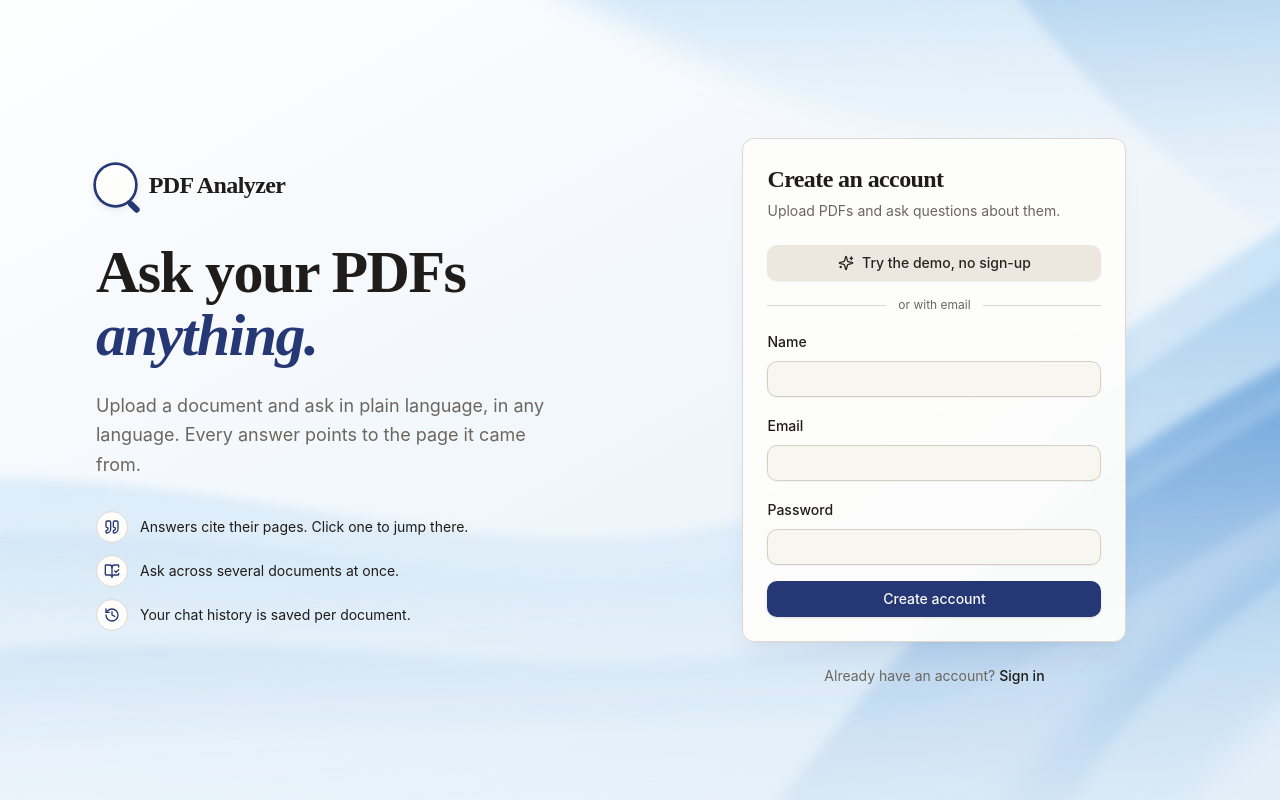
Scenario: RegisterPage (form validation) › shows a clear error under each invalid field, without calling the API
The width and height of the screenshot is (1280, 800).
Type "not-an-email" into the field labelled "Email" at (934, 463), box [768,445,1102,481]
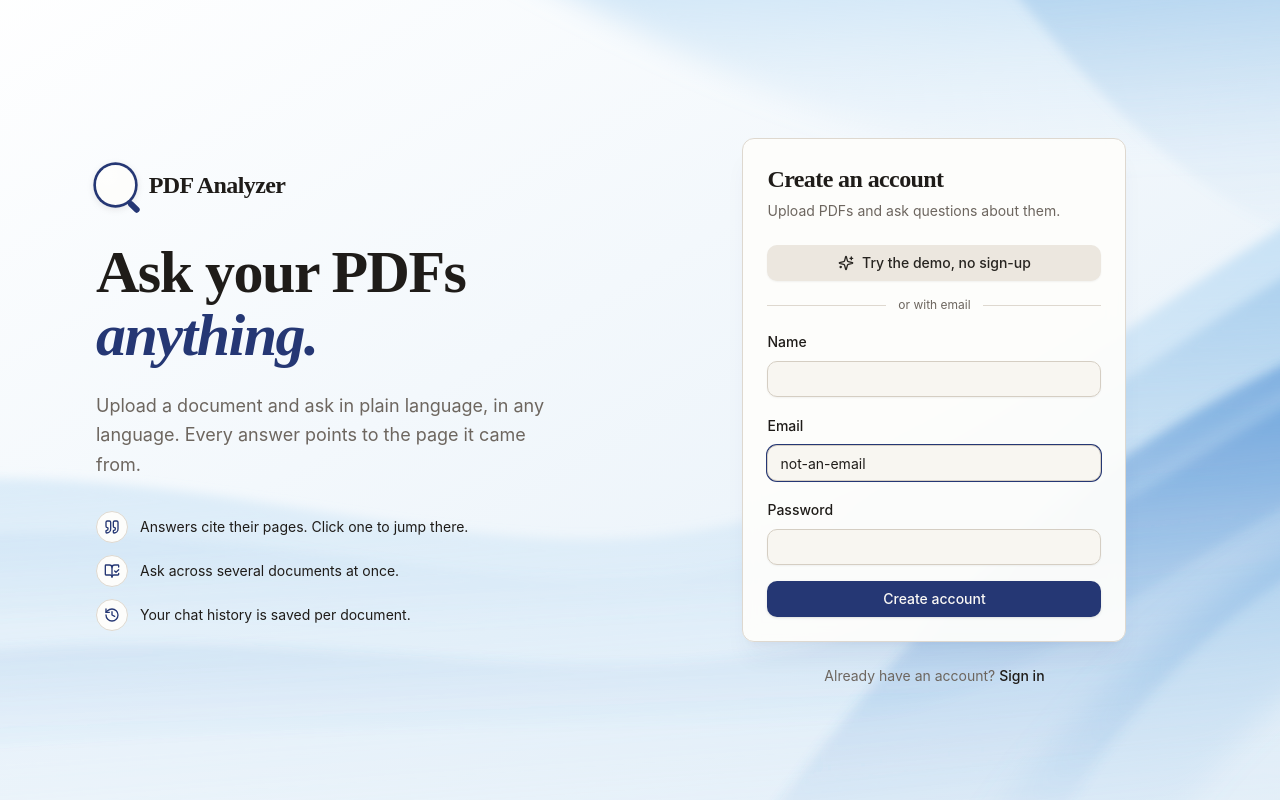
Type "short" into the password field labelled "Password" at (934, 547), box [768,529,1102,565]
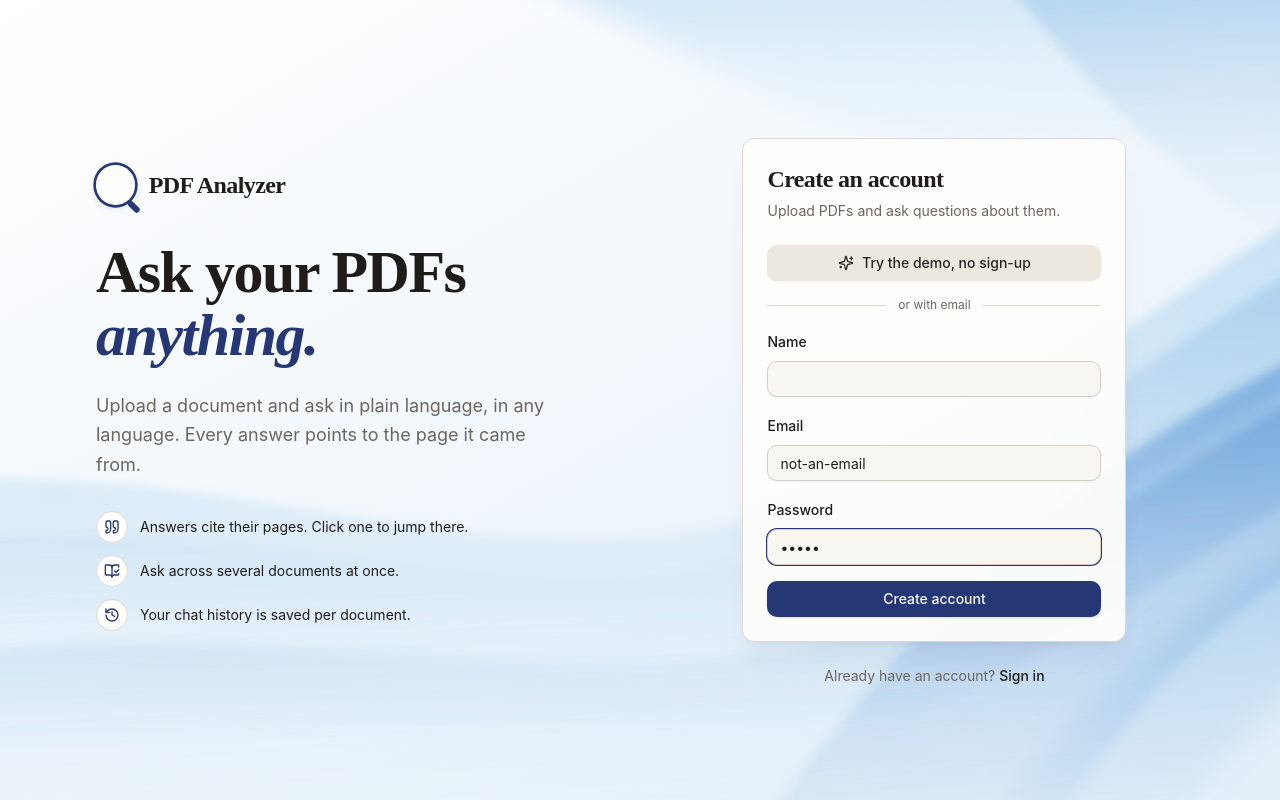
Click the button "Create account" at (934, 599), box [768,581,1102,617]
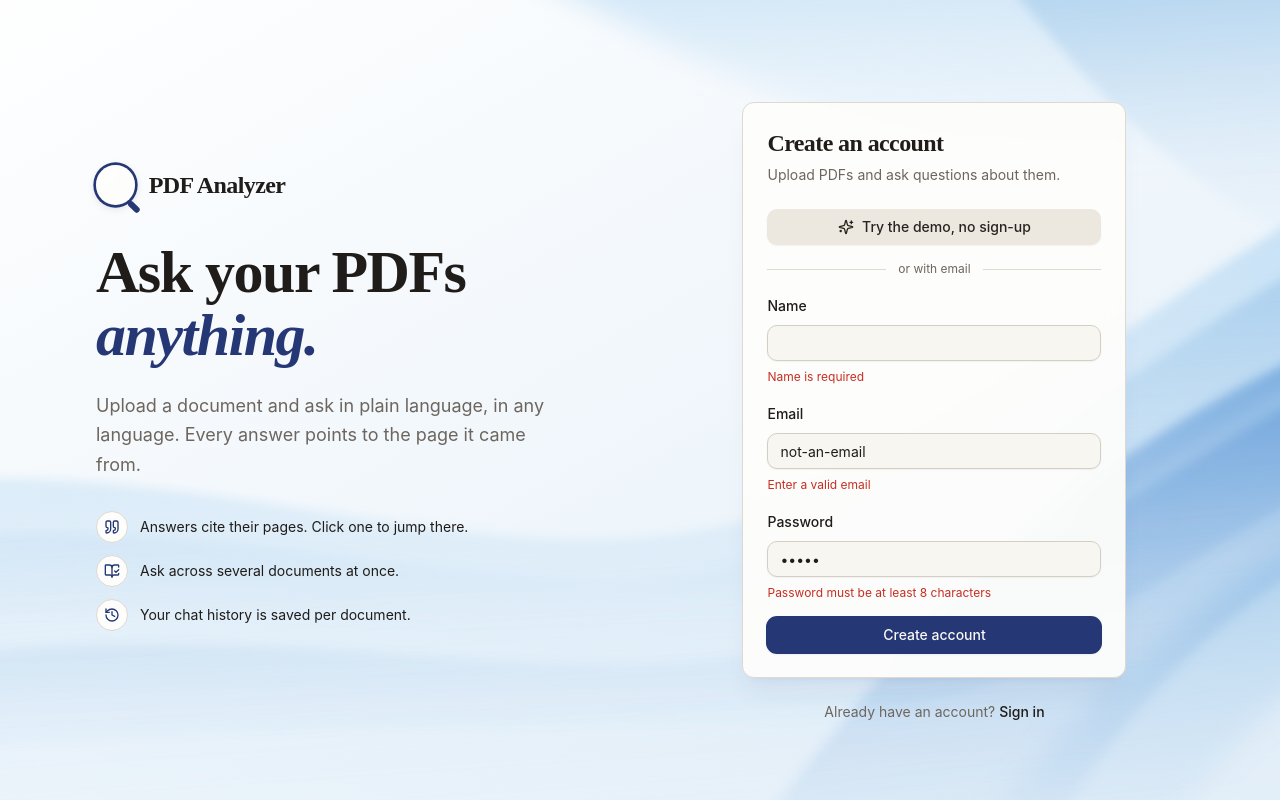
Now the field labelled "Email" is marked as invalid, box [768,433,1102,469]
